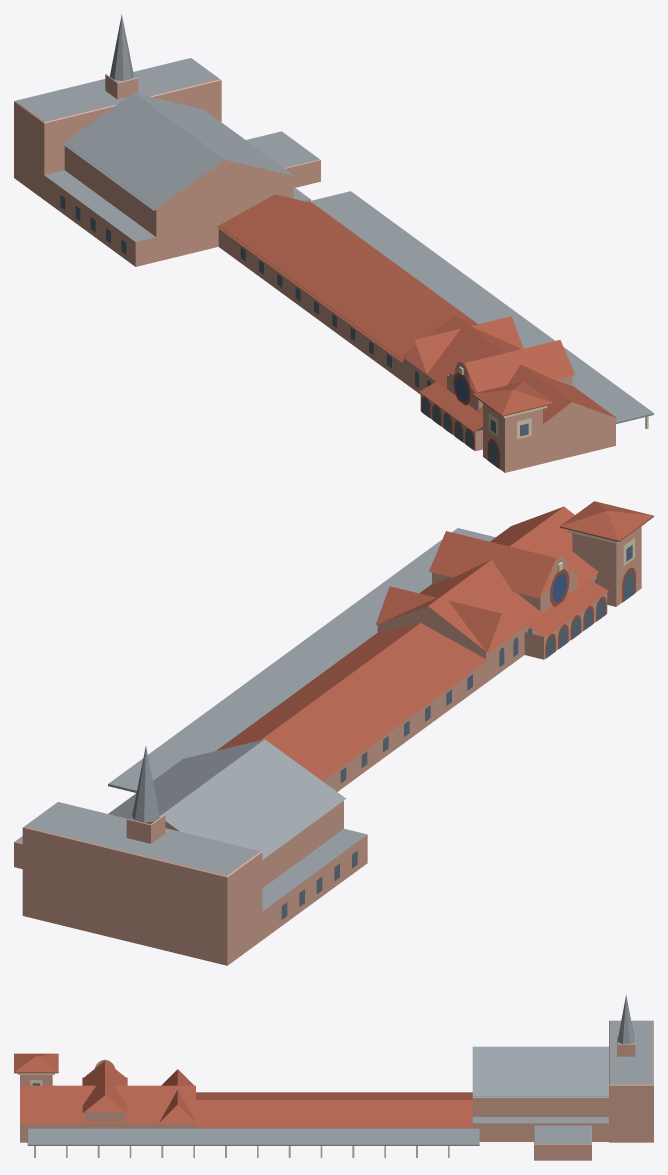
File: sat-sunset-station.glb
3 views of the same model, one above another, from view 1: azimuth 30°, elevation 25°; view 2: azimuth 150°, elevation 25°; view 3: azimuth 270°, elevation 25° (orthographic). The views are drawn at different scales.
Parts seen in each view (by area): view 1: Sunset Station; view 2: Sunset Station; view 3: Sunset Station.
Boxes of the visible parts, bbox=[...] form: Sunset Station: bbox=[14, 14, 653, 472]; Sunset Station: bbox=[14, 501, 653, 965]; Sunset Station: bbox=[14, 995, 653, 1160].
Size of the model in its own units: 42.96 by 28.2 by 141.
